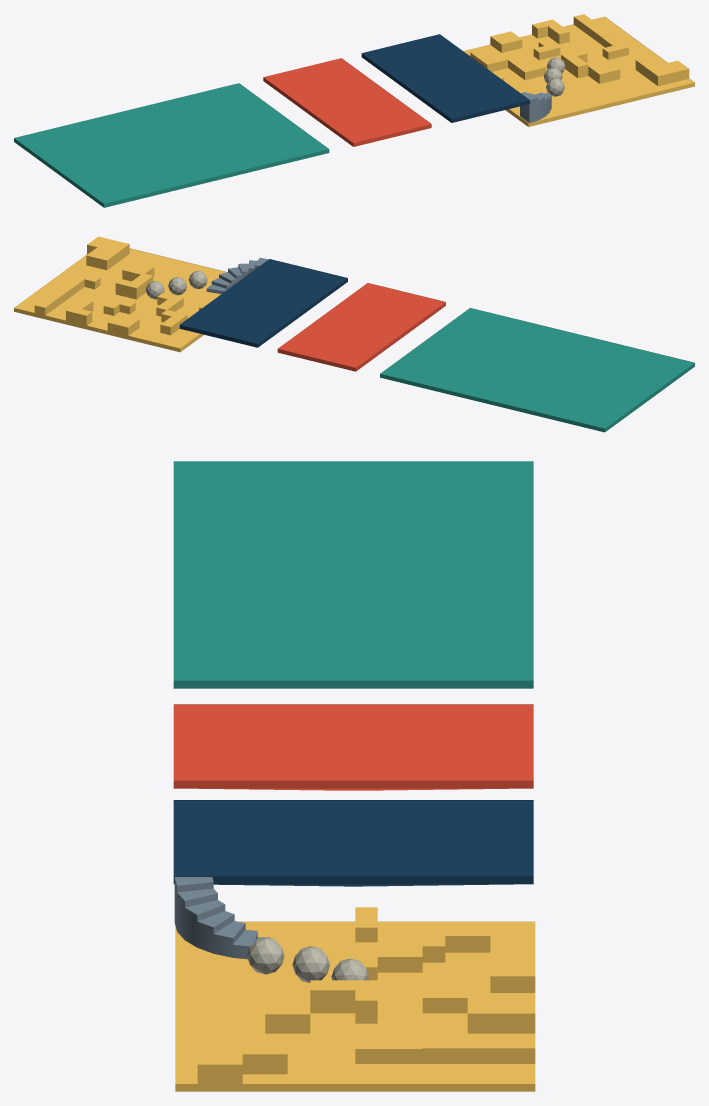
File: Models.obj
The picture shows the model from 3 angles, top to bottom: view 1: azimuth 30°, elevation 25°; view 2: azimuth 150°, elevation 25°; view 3: azimuth 270°, elevation 25°; orthographic projection. The views are drawn at different scales.
Parts seen in each view (by area): view 1: Ground 2 (2), Ground 1, Ground 2, Ground 2 (1), Stairs; view 2: Ground 2 (2), Ground 1, Ground 2, Ground 2 (1), Stairs; view 3: Ground 2 (2), Ground 1, Ground 2 (1), Ground 2, Stairs, Icosphere (1), Icosphere.
Boxes of the visible parts, bbox=[...] form: Ground 2 (2): bbox=[14, 83, 329, 207]; Ground 1: bbox=[463, 14, 694, 126]; Ground 2: bbox=[361, 34, 529, 122]; Ground 2 (1): bbox=[263, 58, 431, 146]; Stairs: bbox=[520, 92, 551, 123]; Ground 2 (2): bbox=[380, 308, 694, 432]; Ground 1: bbox=[14, 236, 226, 352]; Ground 2: bbox=[179, 259, 347, 347]; Ground 2 (1): bbox=[277, 283, 445, 371]; Stairs: bbox=[206, 257, 268, 293]; Ground 2 (2): bbox=[173, 461, 533, 688]; Ground 1: bbox=[175, 907, 535, 1091]; Ground 2 (1): bbox=[173, 704, 533, 790]; Ground 2: bbox=[173, 800, 533, 886]; Stairs: bbox=[174, 877, 269, 959]; Icosphere (1): bbox=[247, 937, 284, 974]; Icosphere: bbox=[292, 946, 329, 982].
Size of the model in its own units: 72.25 by 5.41 by 19.16.
